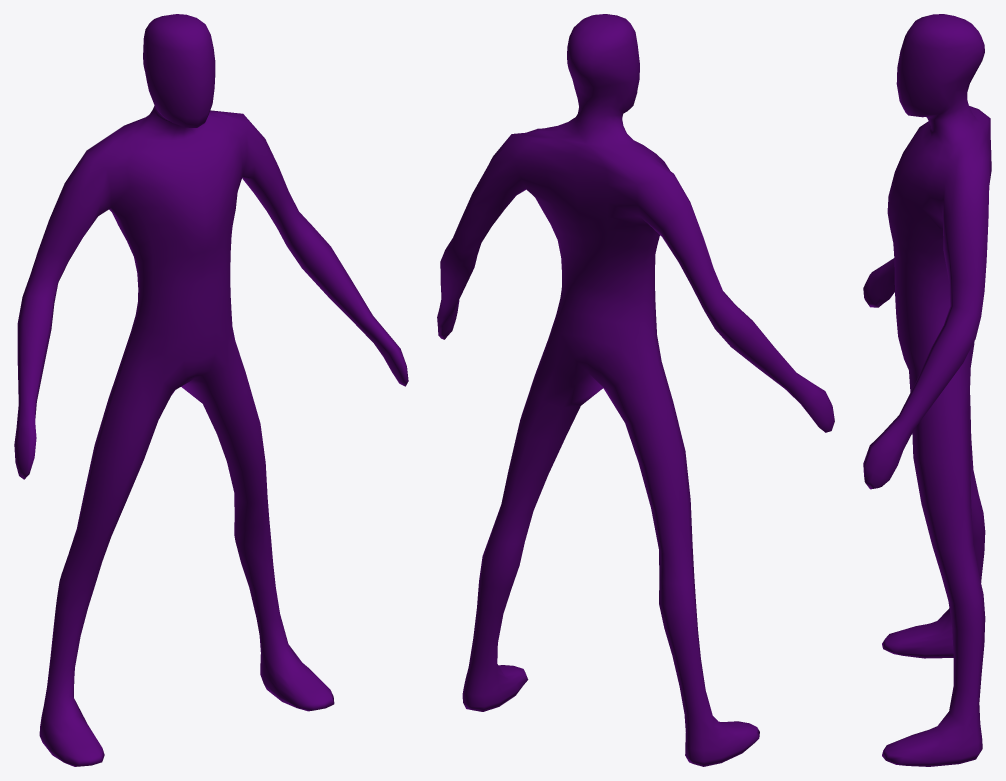
File: EnemyMesh.fbx
3 views of the same model, side by side, from view 1: azimuth 30°, elevation 25°; view 2: azimuth 150°, elevation 25°; view 3: azimuth 270°, elevation 25° (orthographic). The views are drawn at different scales.
Parts seen in each view (by area): view 1: BASE_Low_Poly_Man_0; view 2: BASE_Low_Poly_Man_0; view 3: BASE_Low_Poly_Man_0.
Part boxes in pixels (x1,y1,x2,y2): BASE_Low_Poly_Man_0: (14,14,408,766); BASE_Low_Poly_Man_0: (437,14,834,766); BASE_Low_Poly_Man_0: (863,14,991,766).
Size of the model in its own units: 173 by 299 by 50.72.
